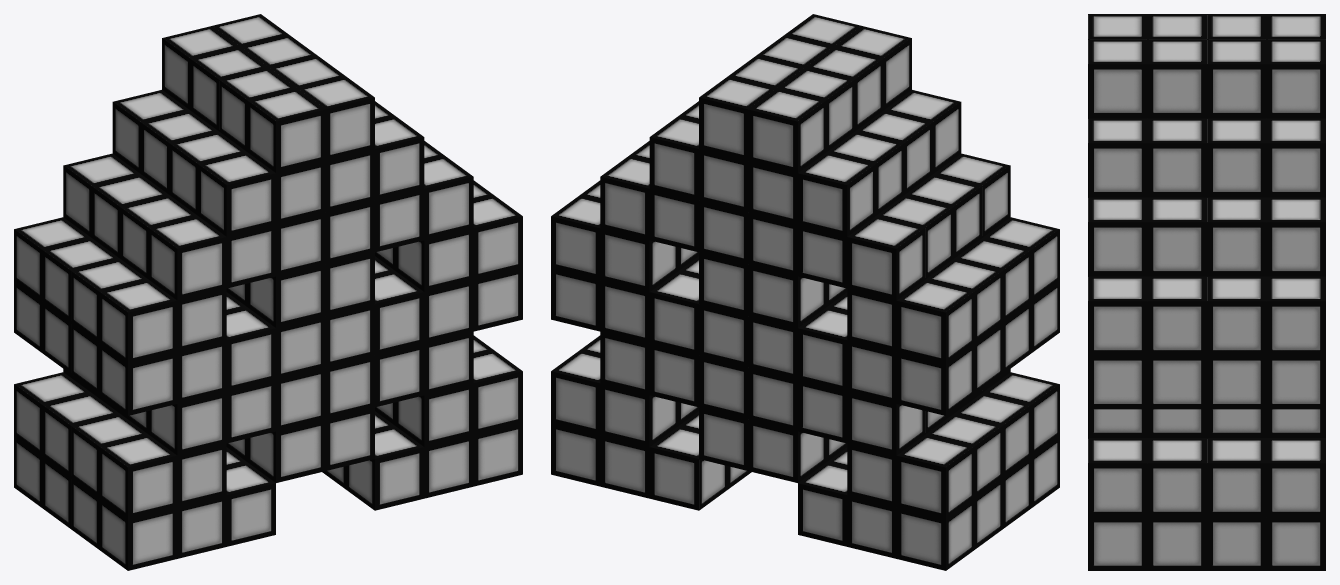
File: Inv_Green.fbx
3 renders of one model, left to right at view 1: azimuth 30°, elevation 25°; view 2: azimuth 150°, elevation 25°; view 3: azimuth 270°, elevation 25°, orthographic. The views are drawn at different scales.
Parts seen in each view (by area): view 1: M_Inv_Green_ANIM, M_Inv_Green_DEF; view 2: M_Inv_Green_ANIM, M_Inv_Green_DEF; view 3: M_Inv_Green_ANIM, M_Inv_Green_DEF.
Part boxes in pixels (<box>): M_Inv_Green_ANIM: <box>14,14,522,558</box>; M_Inv_Green_DEF: <box>14,344,522,570</box>; M_Inv_Green_ANIM: <box>551,14,1059,558</box>; M_Inv_Green_DEF: <box>551,344,1059,570</box>; M_Inv_Green_ANIM: <box>1088,14,1325,516</box>; M_Inv_Green_DEF: <box>1088,517,1325,570</box>.
Bounding box in the file's own units: 8 × 8 × 4.
